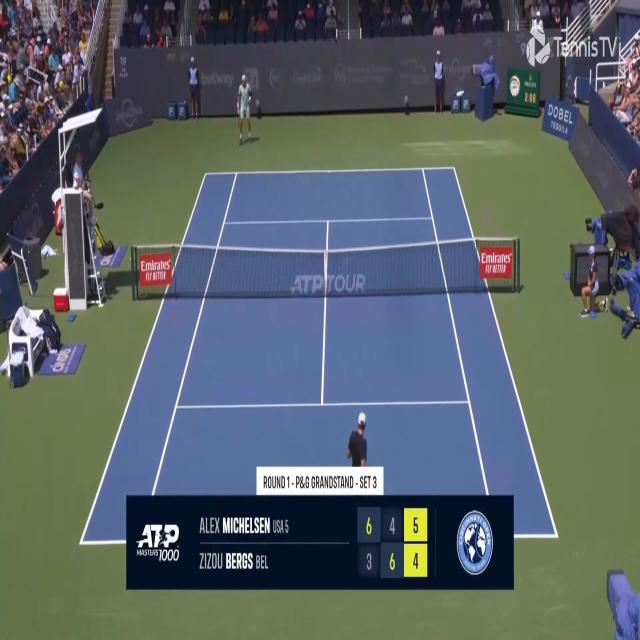tennis-player: (346, 410, 372, 492), (236, 73, 254, 144)
